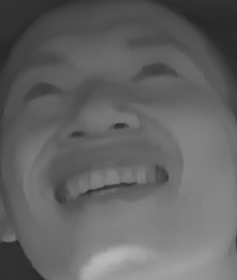eye: (127, 54, 182, 85), (16, 76, 65, 107)
mouth: (50, 150, 175, 219)
